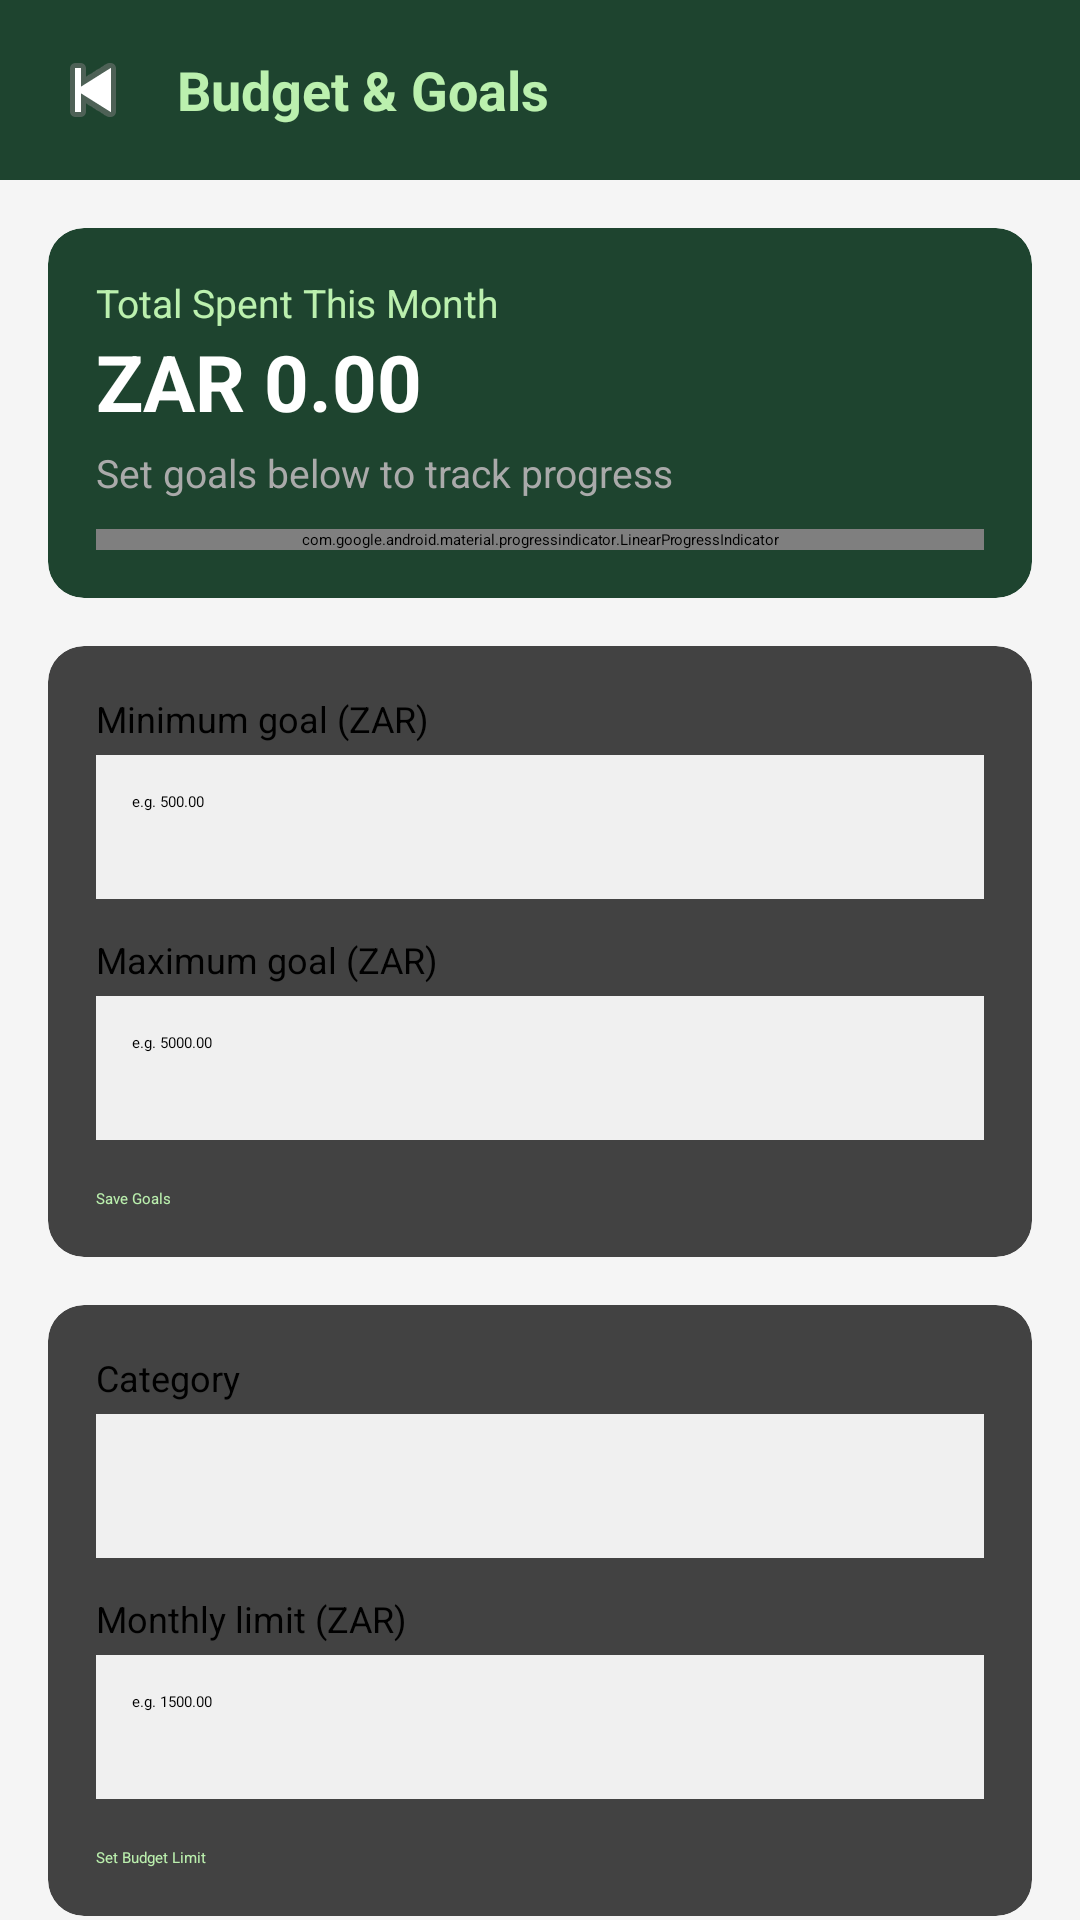

Icon bounding boxes for this 1080 × 1920 phone screenshot, format (x1, y1, x2, y2):
previous: (70, 63, 116, 117)
